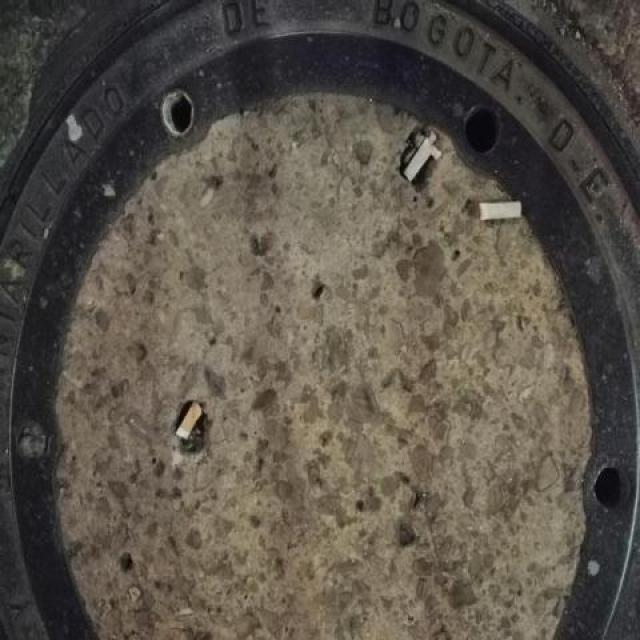non-organic waste: (399, 134, 441, 183), (170, 396, 207, 444), (474, 196, 523, 225)
